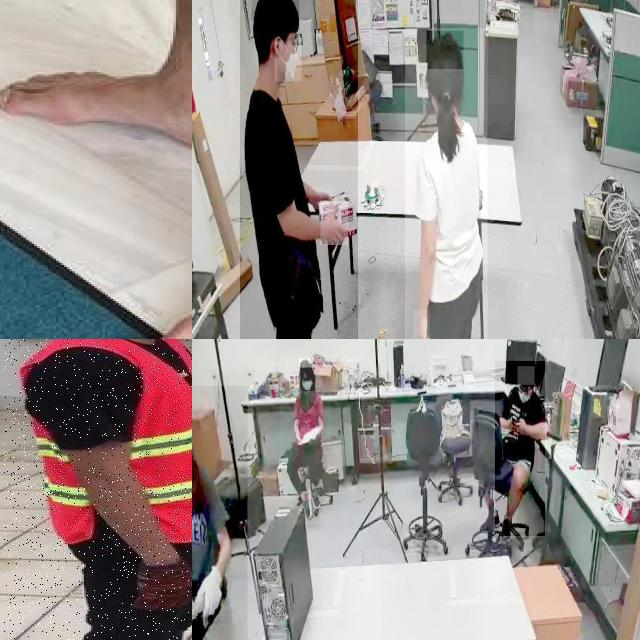Barefoots: (0, 77, 192, 158)
face_mask: (274, 40, 302, 81), (301, 368, 315, 391)
hand_glove: (192, 569, 231, 623)
hand_noglove: (321, 201, 348, 246), (309, 188, 333, 210), (413, 309, 430, 339), (510, 416, 526, 435), (506, 413, 516, 433), (296, 436, 302, 446)
head_nohelmet: (426, 31, 464, 70), (251, 0, 299, 21), (517, 366, 535, 386), (299, 358, 311, 368)
person: (4, 339, 192, 640), (239, 0, 358, 339), (405, 28, 488, 339), (192, 385, 247, 640), (279, 354, 331, 524), (495, 361, 545, 537)
vest: (10, 339, 192, 540)
